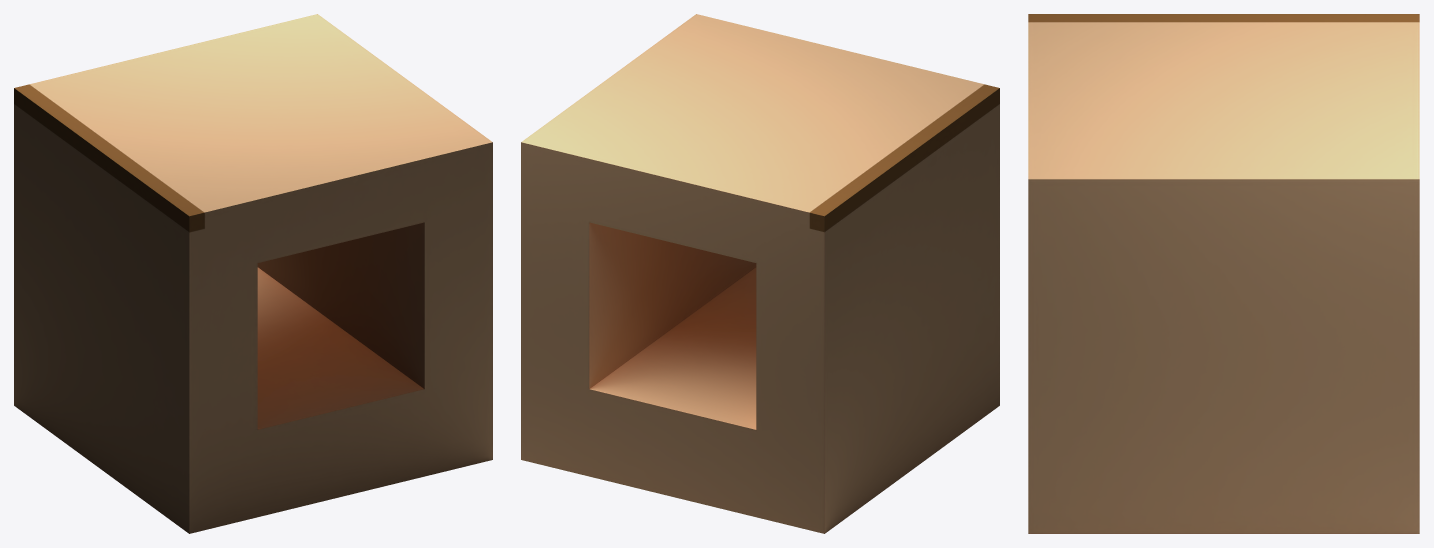
The picture shows the model from 3 angles, left to right: view 1: azimuth 30°, elevation 25°; view 2: azimuth 150°, elevation 25°; view 3: azimuth 270°, elevation 25°; orthographic projection. The views are drawn at different scales.
Parts seen in each view (by area): view 1: box; view 2: box; view 3: box.
Part boxes in pixels (x1=…): box: x1=14, y1=14, x2=492, y2=533; box: x1=521, y1=14, x2=999, y2=533; box: x1=1028, y1=14, x2=1419, y2=533.
Size of the model in its own units: 4 by 4 by 4.
1 material, 1 textured.
